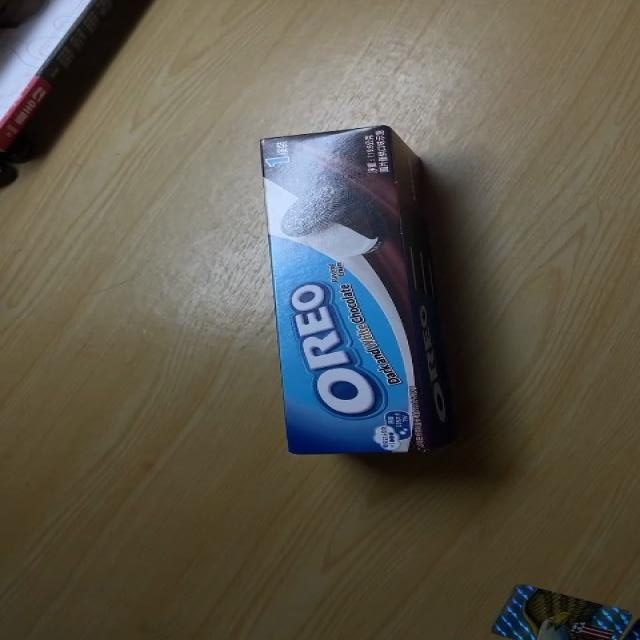Oreo: (260, 123, 440, 457)
